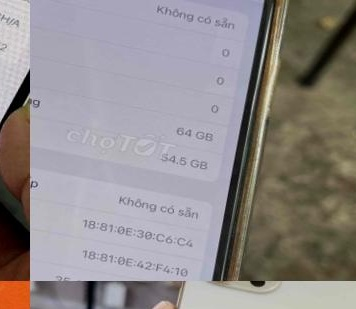scratch: (257, 0, 291, 14)
